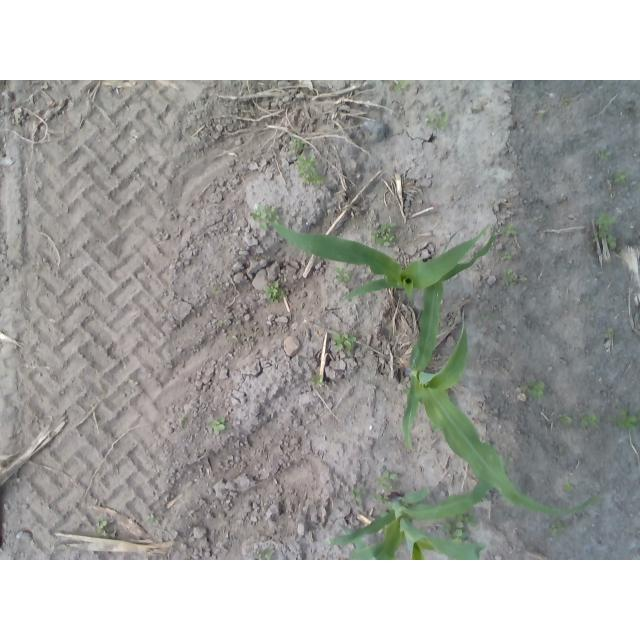Maize: (402, 278, 603, 516), (268, 221, 496, 300), (331, 482, 490, 560)
Weeds: (370, 220, 399, 248), (250, 204, 276, 225), (333, 334, 356, 351), (294, 155, 314, 174), (617, 411, 637, 430), (444, 523, 465, 541), (268, 282, 285, 303), (350, 486, 367, 507), (208, 417, 225, 435), (378, 471, 398, 486), (430, 110, 447, 126), (254, 548, 274, 560), (334, 267, 351, 281), (597, 214, 615, 227), (532, 380, 544, 396), (309, 175, 325, 186), (613, 171, 626, 184), (504, 222, 517, 234), (156, 228, 169, 240), (394, 81, 408, 92), (456, 515, 468, 527), (310, 374, 322, 386), (97, 516, 106, 532), (596, 150, 611, 159), (376, 493, 388, 504), (607, 235, 617, 248), (597, 229, 608, 240), (561, 415, 572, 426), (562, 484, 575, 493), (301, 175, 311, 185), (293, 137, 302, 147), (502, 275, 511, 285), (604, 329, 612, 340), (588, 413, 596, 424), (560, 97, 569, 106), (503, 250, 511, 260), (503, 268, 513, 276), (556, 521, 564, 531), (580, 417, 589, 425), (522, 385, 530, 393), (551, 525, 557, 535), (470, 518, 477, 526), (539, 109, 546, 115), (589, 301, 595, 308), (232, 336, 238, 341), (149, 514, 154, 519), (212, 288, 217, 293), (219, 320, 223, 324)
